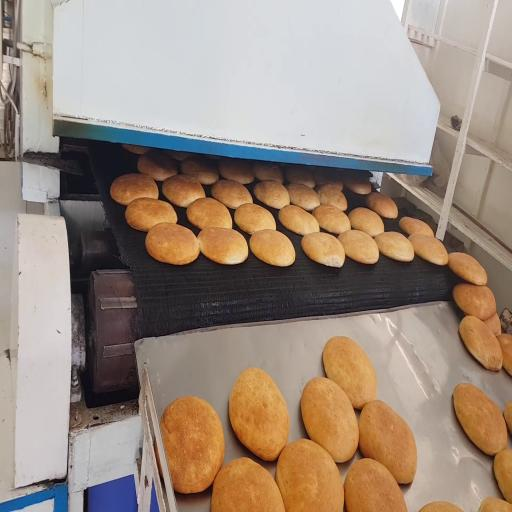bread: (161, 397, 224, 493), (229, 368, 289, 460), (276, 439, 344, 511), (301, 377, 358, 462), (359, 401, 417, 484), (211, 458, 285, 511), (323, 337, 377, 409), (454, 384, 507, 455), (345, 459, 407, 511), (459, 316, 502, 370), (146, 223, 199, 265), (198, 228, 248, 265), (125, 198, 177, 231), (250, 229, 295, 266), (453, 284, 496, 320), (110, 174, 158, 205), (302, 233, 345, 267), (187, 198, 232, 229), (162, 175, 205, 207), (339, 230, 379, 264), (448, 252, 487, 285), (235, 203, 276, 234), (409, 233, 448, 265), (138, 150, 177, 181), (279, 205, 319, 235), (211, 180, 252, 209), (375, 232, 414, 261), (313, 205, 350, 235), (181, 156, 218, 185), (348, 208, 384, 237), (254, 180, 289, 209), (287, 183, 320, 211), (494, 450, 511, 502), (219, 159, 254, 184), (316, 184, 347, 211), (367, 192, 398, 219), (399, 217, 434, 237), (285, 165, 315, 188), (314, 169, 343, 191), (253, 162, 283, 183), (496, 334, 511, 375), (344, 176, 371, 194), (479, 498, 511, 511), (420, 502, 462, 511), (484, 313, 501, 335), (122, 144, 150, 155), (166, 150, 192, 161), (504, 401, 511, 432)
